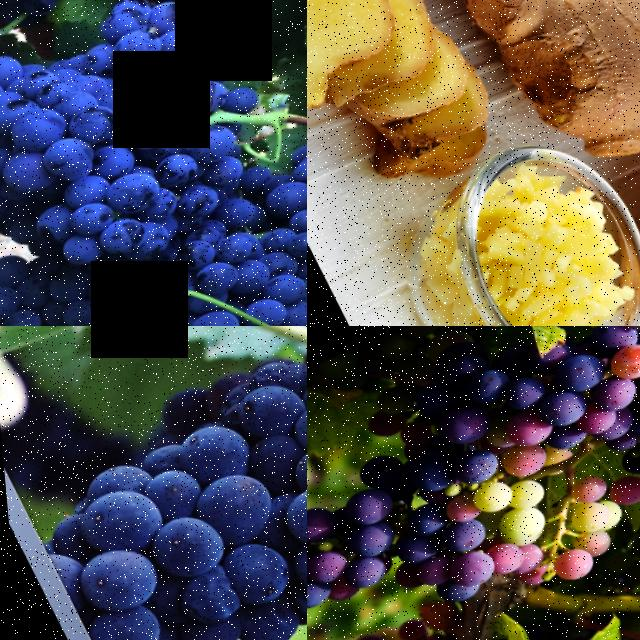ginger: (319, 0, 640, 202)
grapes: (0, 326, 307, 640), (0, 0, 242, 297), (5, 96, 293, 308), (307, 417, 533, 640), (404, 326, 640, 517), (89, 201, 307, 326), (0, 220, 118, 326)
